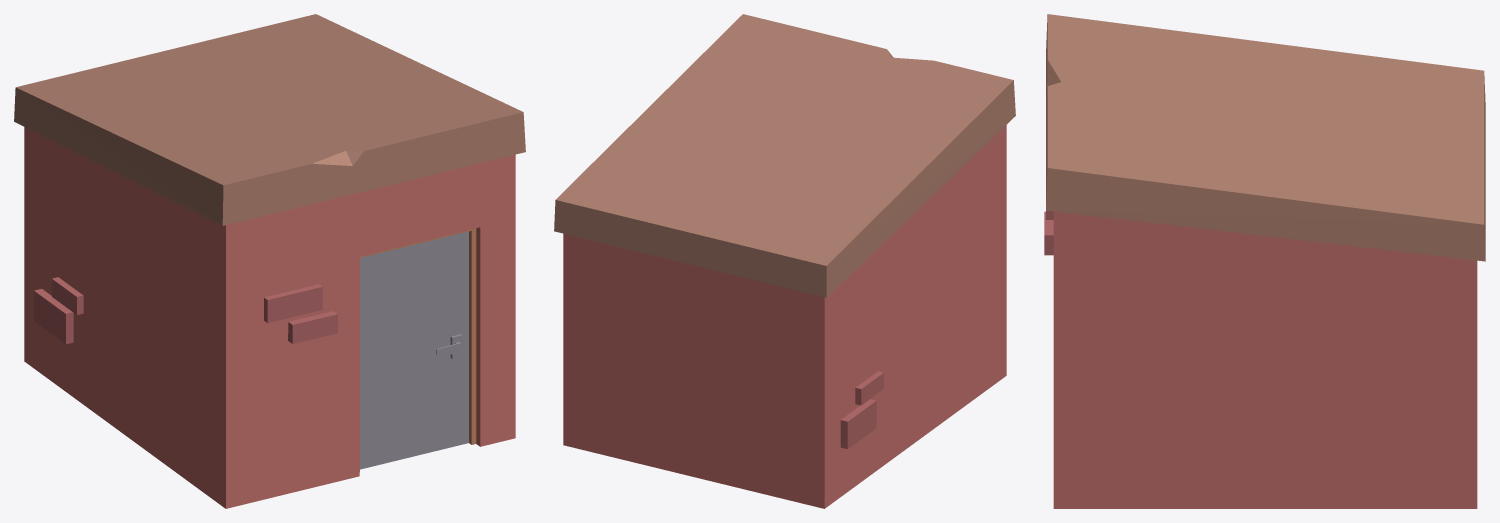
Rendered from roof-exit.glb.
3 views of the same model, side by side, from view 1: azimuth 30°, elevation 25°; view 2: azimuth 150°, elevation 25°; view 3: azimuth 270°, elevation 25° (orthographic). The views are drawn at different scales.
Visible parts, largest first — view 1: RoofExit; view 2: RoofExit; view 3: RoofExit.
Part boxes in pixels (bbox=[...]): RoofExit: bbox=[14, 14, 525, 508]; RoofExit: bbox=[554, 14, 1015, 508]; RoofExit: bbox=[1044, 14, 1485, 508].
Bounding box in the file's own units: 0.6242 × 0.6408 × 0.7456.
1 material, 1 textured.
